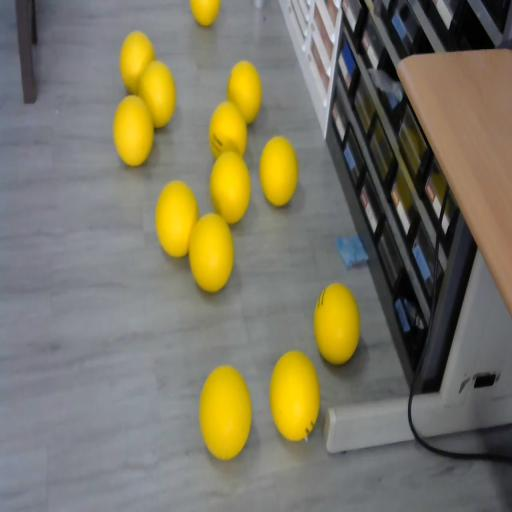FUEL: (198, 364, 252, 460), (268, 348, 321, 441), (313, 280, 361, 364), (187, 211, 235, 294), (154, 179, 199, 258), (209, 151, 251, 224), (113, 94, 154, 166), (259, 135, 298, 206), (119, 30, 155, 94), (228, 60, 262, 124), (190, 0, 220, 27)
